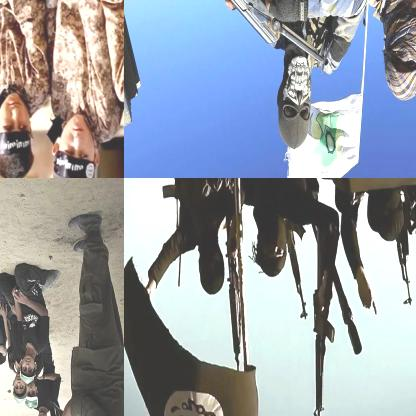rifle: (124, 0, 333, 74), (312, 287, 337, 415), (283, 215, 309, 325), (394, 227, 413, 308)
